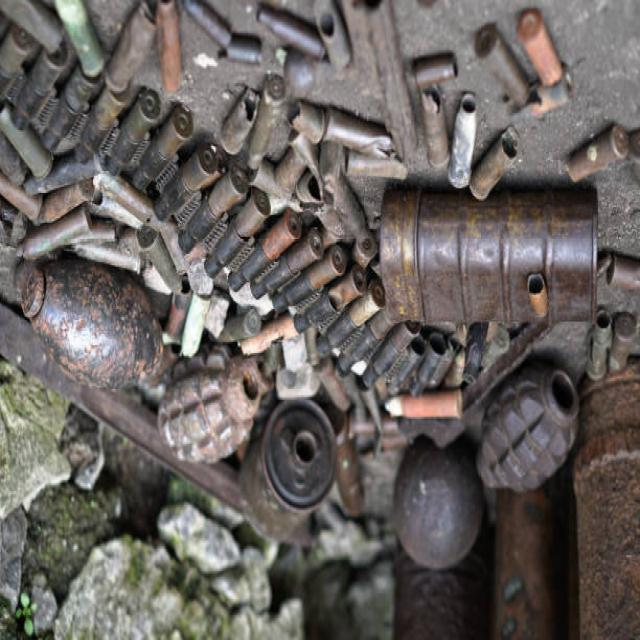grenade: (18, 255, 168, 395), (476, 360, 588, 497), (158, 348, 264, 472)
